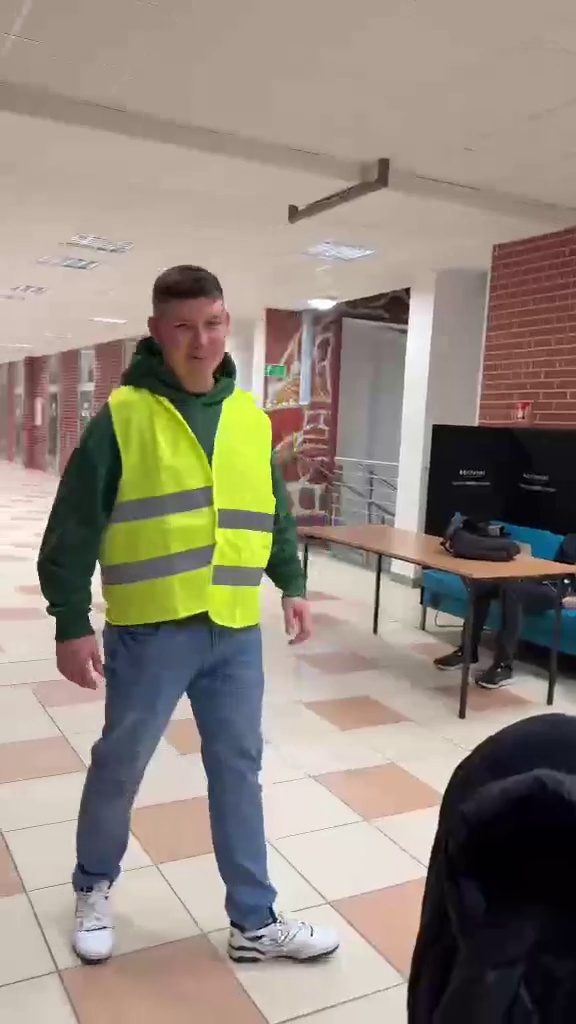vest: (45, 245, 338, 958)
